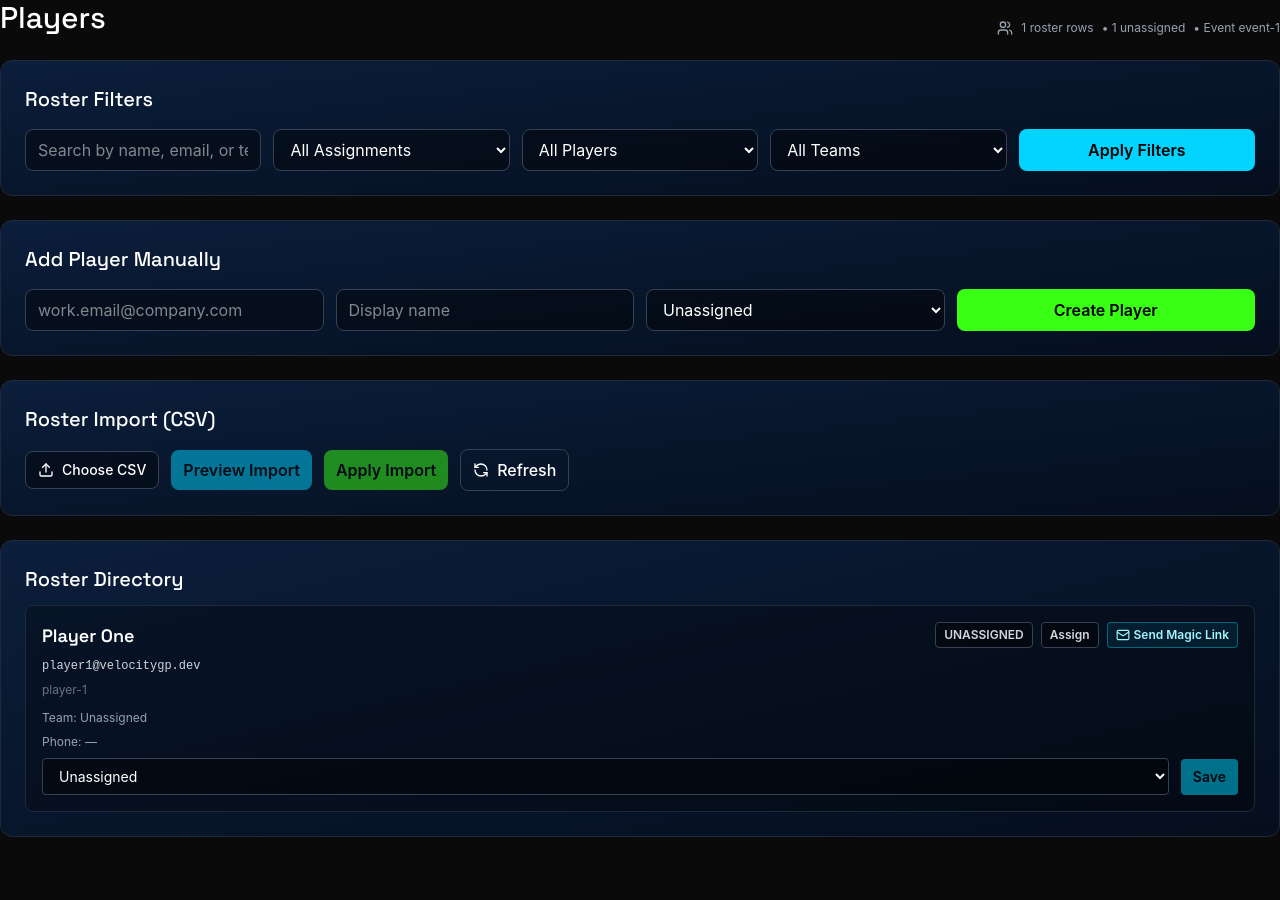
Test: AdminPlayers roster workflows › sends magic link from roster row action
Expected: the button "Player One" is shown, [42, 622, 134, 650]
Click the button "Send Magic Link" at x=1172, y=635, box [1106, 622, 1238, 648]
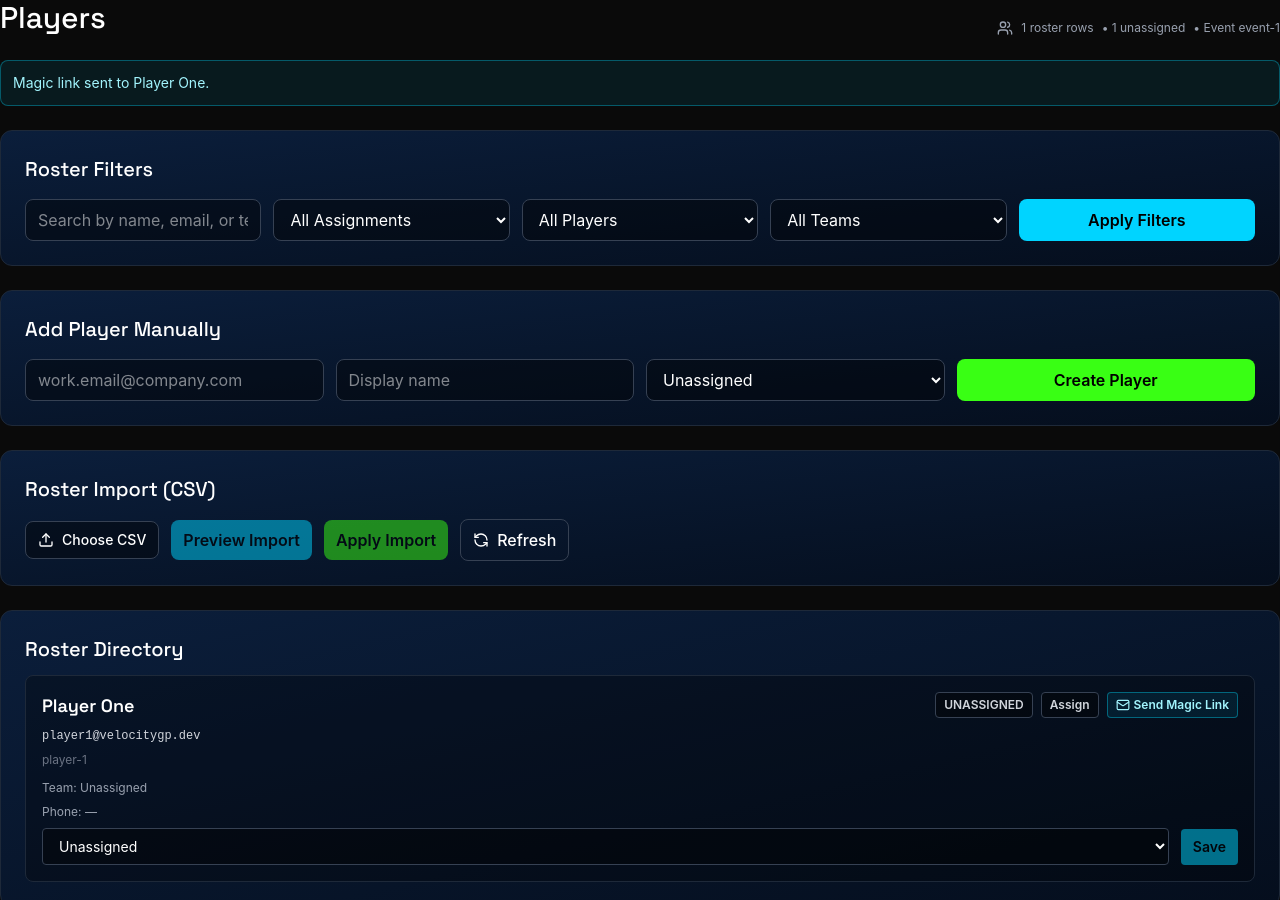
Expected: the text "Magic link sent to Player One." is shown, [0, 60, 1279, 106]
